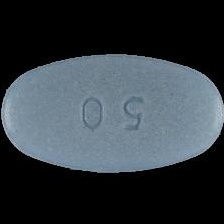43063-589: (0, 0, 224, 224)
